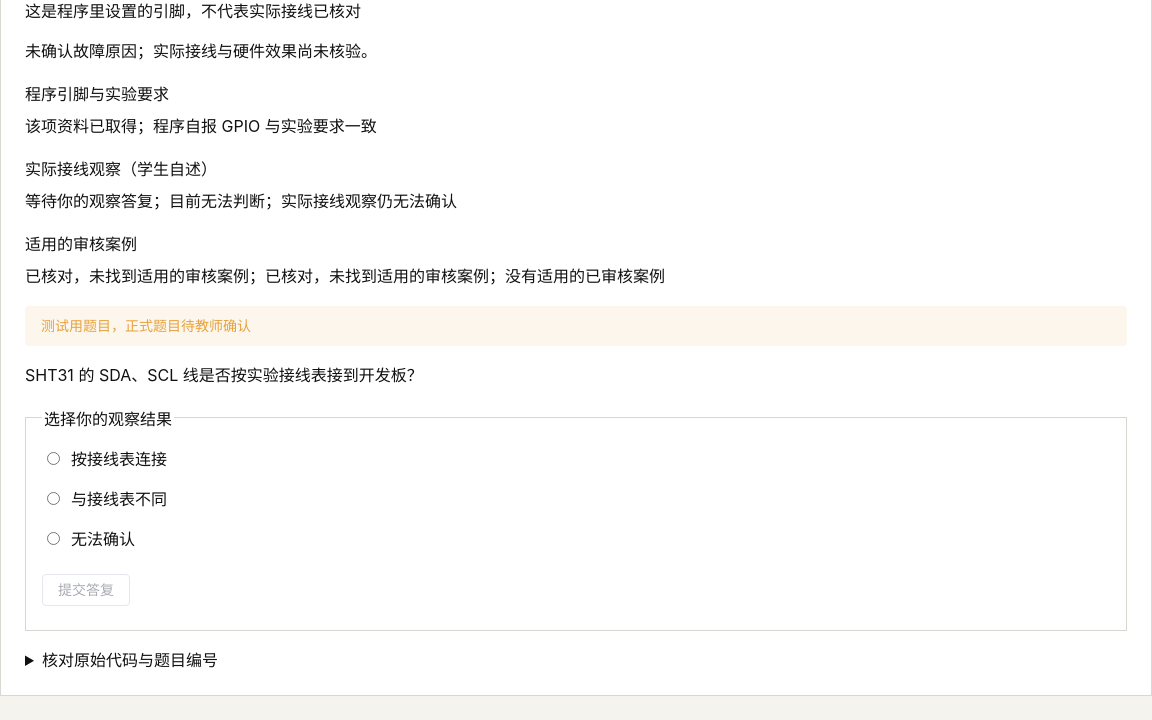
Test case: 资料核对 › clears protected content on 403
This screenshot has width=1152, height=720.
(page scrolled)
Step 1. Click the radio button labelled "按接线表连接" → (54, 458), box [47,452,60,464]
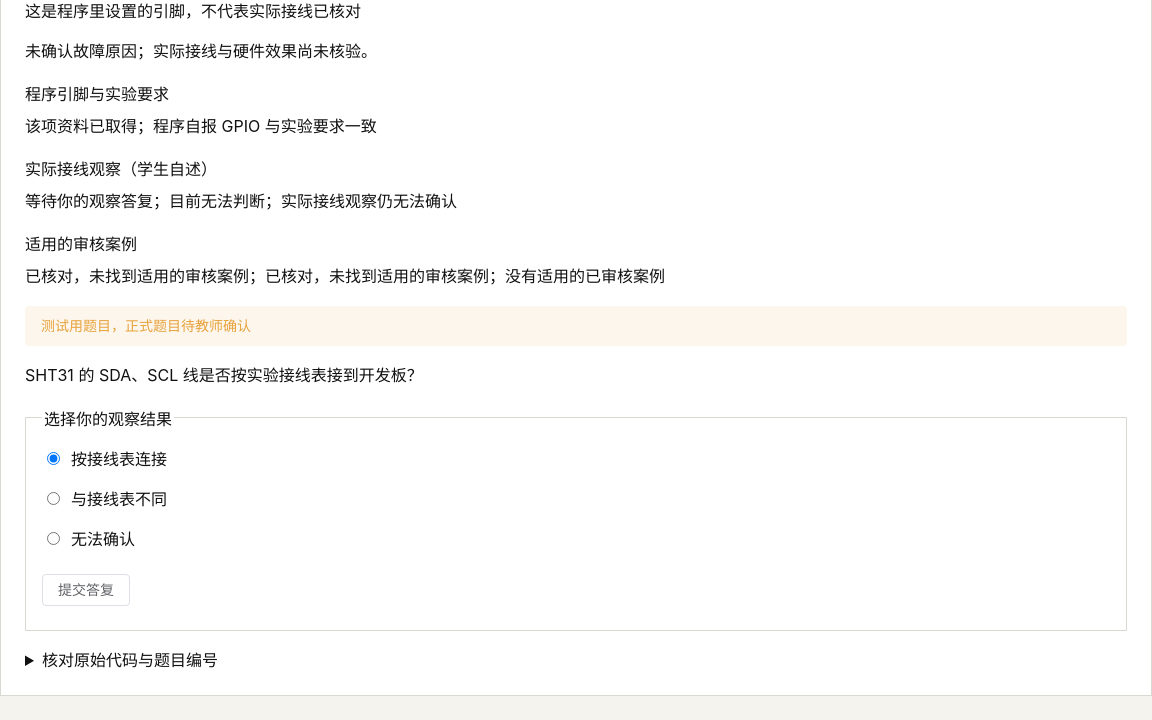
Step 2. Click the button "提交答复" → (86, 590), box [42,574,130,606]
(page scrolled)
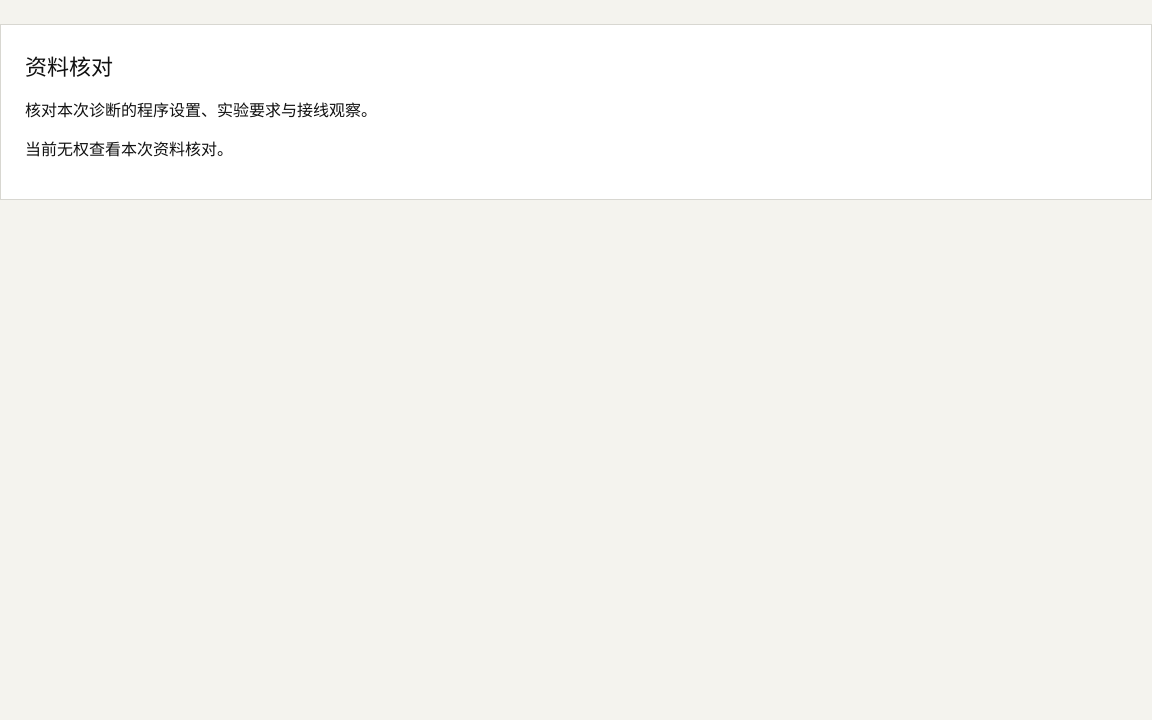
Now the text "当前无权" is shown, box [25,139,233,159]
